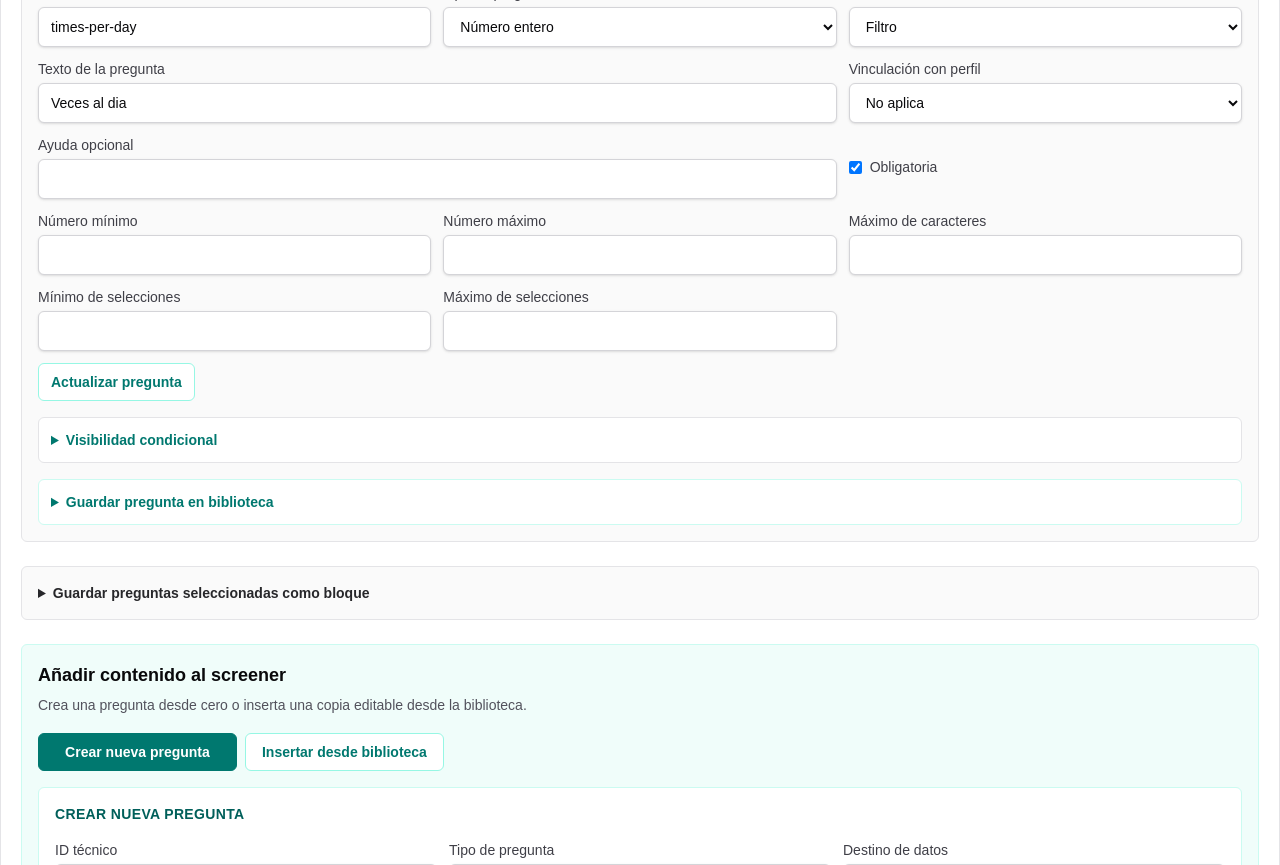
Test: ScreenerBuilder › conserva valores de visibilidad condicional al renderizar
The image size is (1280, 865).
(page scrolled)
What coordinates should you click on to do the following:
click the heading "Visibilidad condicional"
I would click on:
 (142, 440)
Its box is [66, 432, 217, 448].
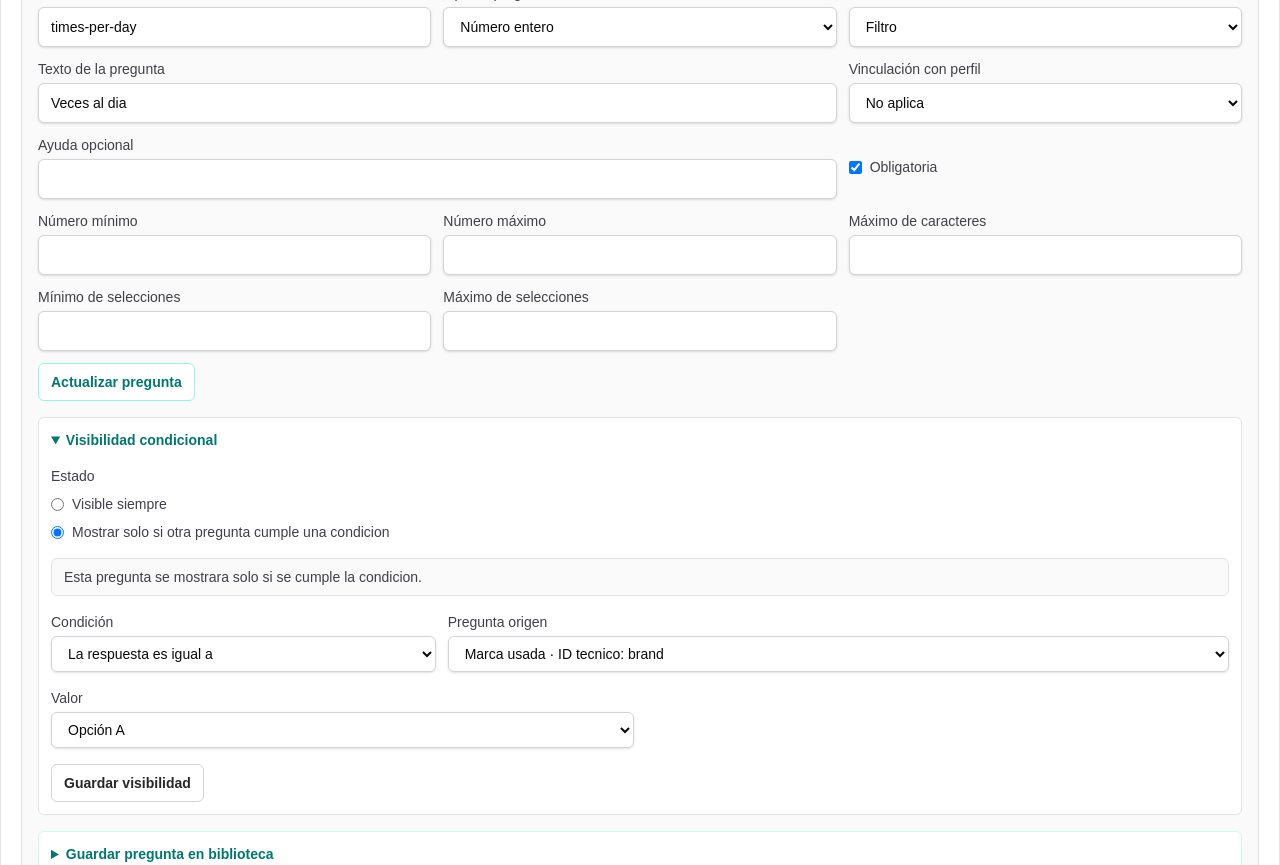
Now the radio button labelled "Mostrar solo si otra pregunta cumple una condicion" is checked, box [51, 526, 64, 538]
Now the dropdown labelled "Pregunta origen" shows "Marca usada · ID tecnico: brand", box [448, 636, 1229, 672]
Now the dropdown labelled "Valor" shows "Opción A", box [51, 712, 634, 748]
